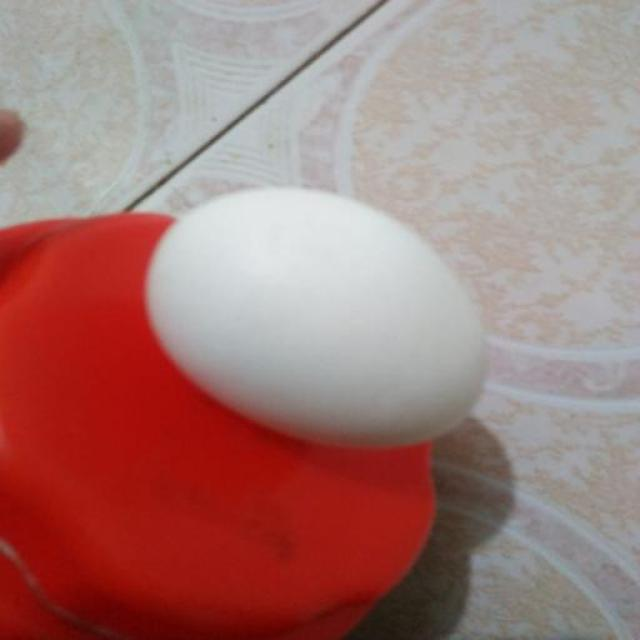telur: (147, 185, 492, 449)
